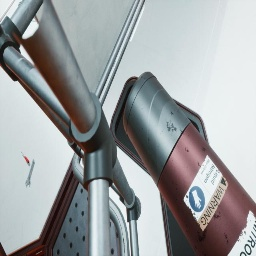FireExtinguisher ]: (18, 1, 21, 6)
NitrogenTank ,: (123, 72, 256, 256)
